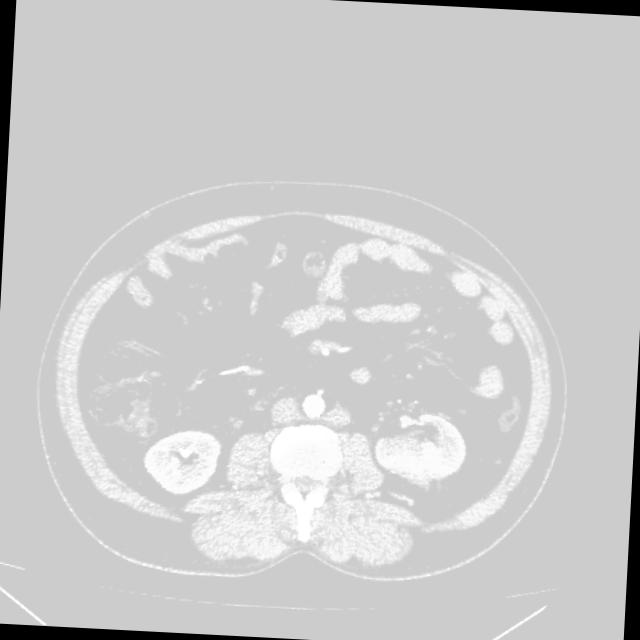TUMOR: (79, 256, 592, 531)
